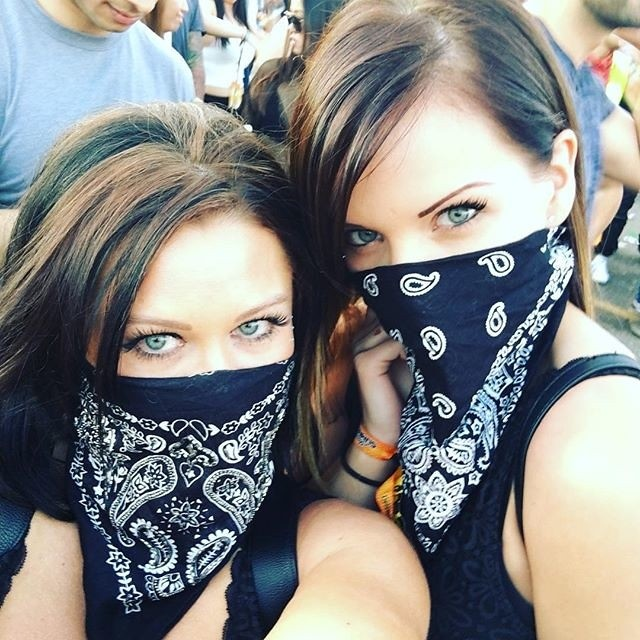face_with_mask: (321, 27, 574, 396), (70, 162, 294, 507)
